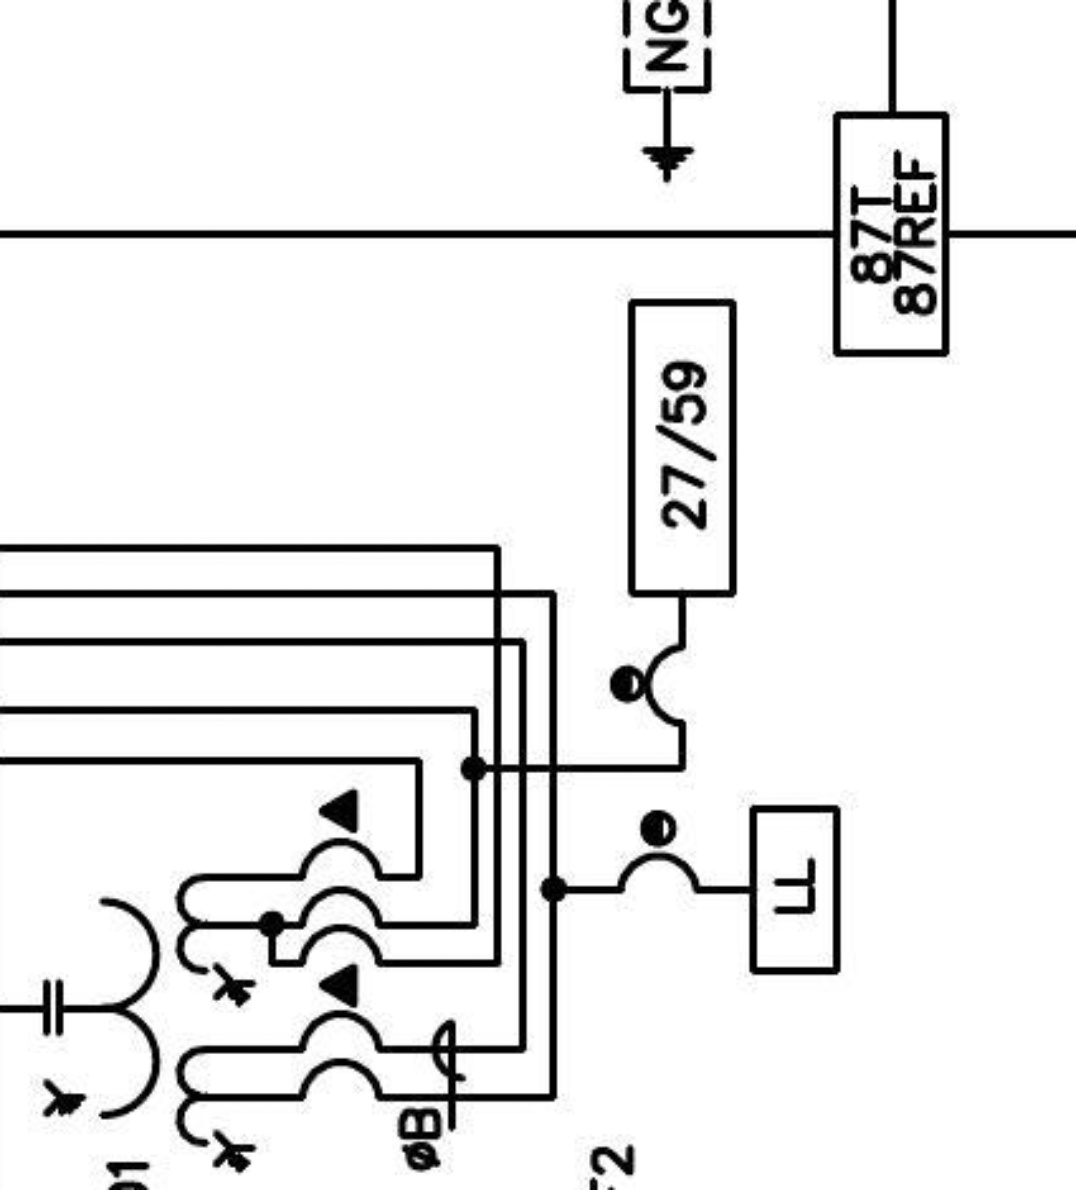115_cvt_3p: (41, 872, 258, 1175)
LL: (748, 805, 842, 975)
